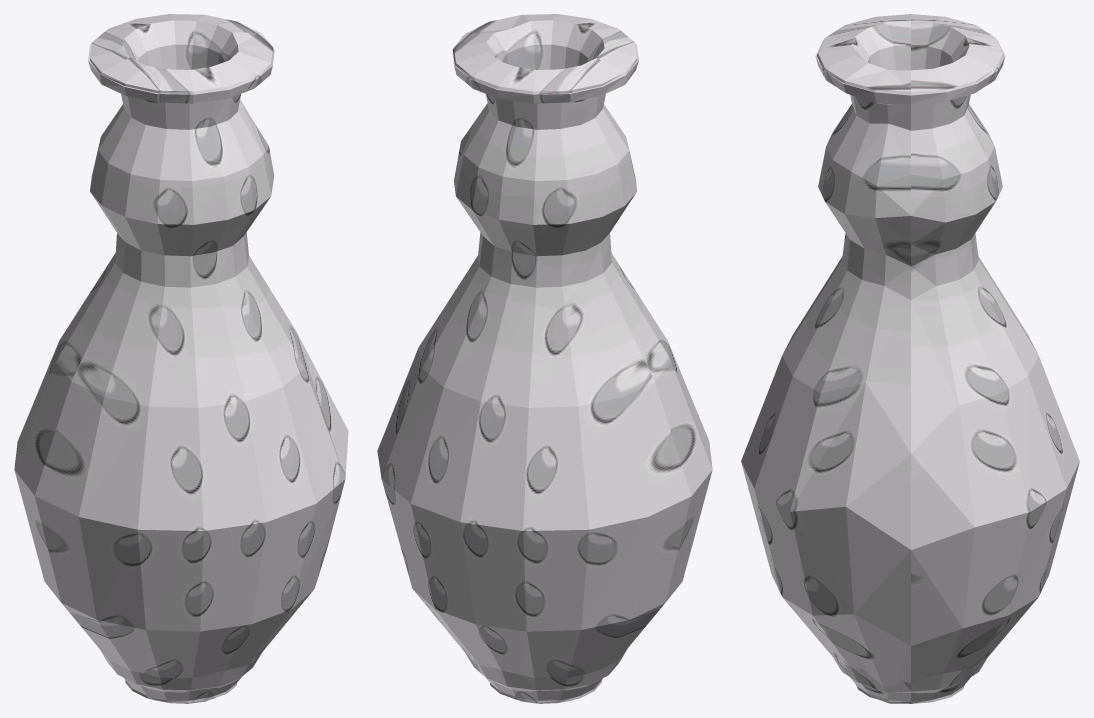
File: VasePak.glb
3 views of the same model, side by side, from view 1: azimuth 30°, elevation 25°; view 2: azimuth 150°, elevation 25°; view 3: azimuth 270°, elevation 25° (orthographic).
Visible parts, largest first — view 1: VasePak; view 2: VasePak; view 3: VasePak.
Part boxes in pixels (x1,y1,x2,y2): VasePak: (14, 14, 348, 703); VasePak: (377, 14, 712, 703); VasePak: (741, 14, 1079, 703).
Size of the model in its own units: 69.41 by 145 by 69.53.
1 material, 1 textured.
